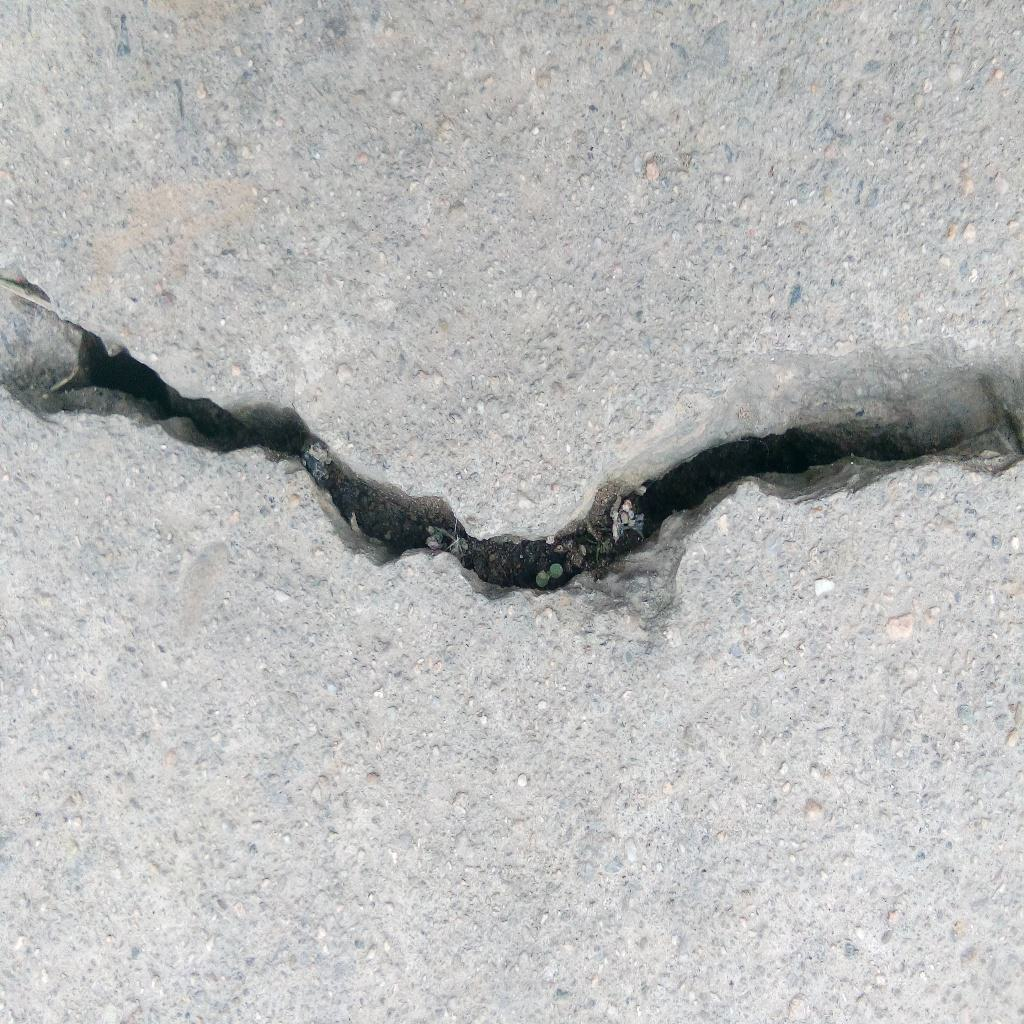Crack: (1, 323, 1024, 599)
